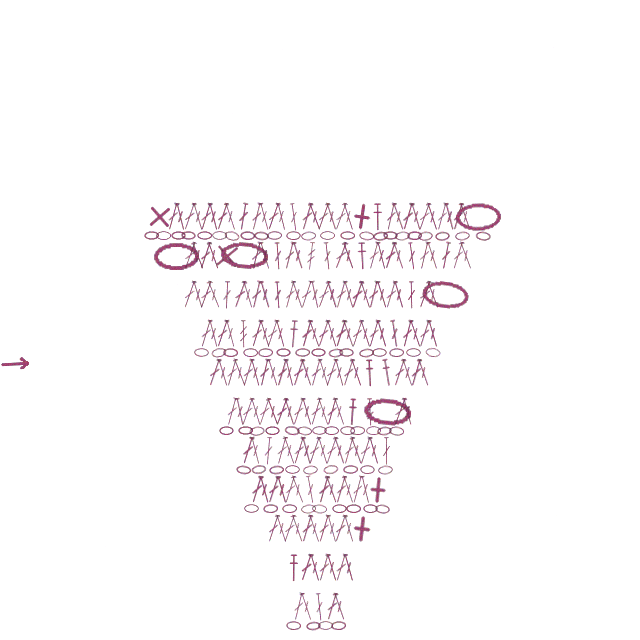chain: (420, 278, 471, 312), (362, 396, 412, 428), (219, 240, 269, 271), (455, 202, 502, 231), (153, 242, 200, 270), (224, 230, 240, 242), (251, 464, 267, 475), (323, 464, 339, 475), (284, 425, 300, 436), (211, 347, 227, 358), (425, 347, 441, 358), (249, 426, 265, 436), (328, 348, 344, 358), (475, 231, 491, 241), (306, 621, 321, 631), (301, 504, 316, 514), (312, 504, 327, 514), (375, 504, 390, 514), (236, 465, 251, 475), (269, 465, 284, 475), (303, 465, 318, 475), (378, 465, 393, 475), (297, 426, 312, 436), (377, 426, 392, 436), (389, 426, 404, 436), (359, 348, 374, 358), (254, 231, 269, 241), (301, 231, 316, 241), (359, 231, 374, 241), (373, 231, 388, 241), (395, 231, 410, 241), (418, 231, 433, 241), (435, 231, 450, 241), (455, 231, 470, 241), (286, 621, 301, 630), (318, 621, 333, 630), (331, 621, 346, 630), (244, 504, 259, 513), (263, 504, 278, 513), (282, 504, 297, 513), (332, 504, 347, 513), (346, 504, 361, 513), (363, 504, 378, 513), (285, 465, 300, 474), (343, 465, 358, 474), (360, 465, 375, 474), (219, 426, 234, 435), (238, 426, 253, 435), (265, 426, 280, 435), (312, 426, 327, 435), (324, 426, 339, 435), (340, 426, 355, 435), (350, 426, 365, 435), (366, 426, 381, 435), (194, 348, 209, 357), (223, 348, 238, 357), (243, 348, 258, 357), (258, 348, 273, 357), (276, 348, 291, 357), (295, 348, 310, 357), (311, 348, 326, 357), (339, 348, 354, 357), (372, 348, 387, 357), (389, 348, 404, 357), (406, 348, 421, 357), (144, 231, 159, 240), (156, 231, 171, 240), (171, 231, 186, 240), (181, 231, 196, 240), (197, 231, 212, 240), (212, 231, 227, 240), (240, 231, 255, 240), (267, 231, 282, 240), (286, 231, 301, 240), (320, 231, 335, 240), (340, 231, 355, 240), (383, 231, 398, 240), (407, 231, 422, 240)
double: (289, 475, 307, 504), (264, 397, 282, 426), (273, 397, 291, 426), (391, 397, 409, 426), (231, 358, 249, 387), (197, 280, 215, 309), (205, 280, 223, 309), (231, 280, 249, 309), (315, 280, 333, 309), (416, 280, 434, 309), (424, 280, 442, 309), (181, 241, 199, 270), (189, 241, 207, 270), (332, 241, 350, 270), (457, 241, 475, 270), (306, 202, 324, 231), (332, 202, 350, 231), (298, 592, 315, 621), (331, 592, 348, 621), (298, 553, 315, 582), (265, 514, 282, 543), (273, 514, 290, 543), (281, 514, 298, 543), (289, 514, 306, 543), (306, 514, 323, 543), (332, 514, 349, 543), (265, 475, 282, 504), (323, 475, 340, 504), (340, 475, 357, 504), (281, 436, 298, 465), (306, 436, 323, 465), (323, 436, 340, 465), (331, 436, 348, 465), (348, 436, 365, 465), (357, 436, 374, 465), (239, 397, 256, 426), (256, 397, 273, 426), (281, 397, 298, 426), (290, 397, 307, 426), (315, 397, 332, 426), (331, 397, 348, 426), (206, 358, 223, 387), (290, 358, 307, 387), (298, 358, 315, 387), (323, 358, 340, 387), (340, 358, 357, 387), (348, 358, 365, 387), (391, 358, 408, 387), (399, 358, 416, 387), (415, 358, 432, 387), (214, 319, 231, 348), (264, 319, 281, 348), (306, 319, 323, 348), (315, 319, 332, 348), (340, 319, 357, 348), (349, 319, 366, 348), (357, 319, 374, 348), (407, 319, 424, 348), (416, 319, 433, 348), (181, 280, 198, 309), (289, 280, 306, 309), (298, 280, 315, 309), (349, 280, 366, 309), (357, 280, 374, 309), (197, 241, 214, 270), (205, 241, 222, 270), (340, 241, 357, 270), (382, 241, 399, 270), (390, 241, 407, 270), (424, 241, 441, 270), (181, 202, 198, 231), (214, 202, 231, 231), (222, 202, 239, 231), (265, 202, 282, 231), (315, 202, 332, 231), (323, 202, 340, 231), (340, 202, 357, 231), (390, 202, 407, 231), (416, 202, 433, 231), (424, 202, 441, 231), (457, 202, 474, 231), (324, 592, 340, 621), (307, 553, 323, 582), (316, 553, 332, 582), (324, 553, 340, 582), (333, 553, 349, 582), (341, 553, 357, 582), (299, 514, 315, 543), (316, 514, 332, 543), (324, 514, 340, 543), (341, 514, 357, 543), (249, 475, 265, 504), (274, 475, 290, 504), (282, 475, 298, 504), (316, 475, 332, 504), (333, 475, 349, 504), (240, 436, 256, 465), (274, 436, 290, 465), (291, 436, 307, 465), (315, 436, 331, 465), (341, 436, 357, 465), (366, 436, 382, 465), (224, 397, 240, 426), (248, 397, 264, 426), (299, 397, 315, 426), (308, 397, 324, 426), (324, 397, 340, 426), (215, 358, 231, 387), (224, 358, 240, 387), (240, 358, 256, 387), (265, 358, 281, 387), (274, 358, 290, 387), (308, 358, 324, 387), (316, 358, 332, 387), (408, 358, 424, 387), (198, 319, 214, 348), (249, 319, 265, 348), (257, 319, 273, 348), (299, 319, 315, 348), (324, 319, 340, 348), (333, 319, 349, 348), (366, 319, 382, 348), (374, 319, 390, 348), (425, 319, 441, 348), (190, 280, 206, 309), (240, 280, 256, 309), (257, 280, 273, 309), (282, 280, 298, 309), (324, 280, 340, 309), (333, 280, 349, 309), (341, 280, 357, 309), (374, 280, 390, 309), (383, 280, 399, 309), (391, 280, 407, 309), (257, 241, 273, 270), (290, 241, 306, 270), (366, 241, 382, 270), (450, 241, 466, 270), (165, 202, 181, 231), (190, 202, 206, 231), (198, 202, 214, 231), (299, 202, 315, 231), (400, 202, 416, 231), (408, 202, 424, 231), (434, 202, 450, 231), (450, 202, 466, 231), (291, 592, 306, 621), (257, 475, 272, 504), (350, 475, 365, 504), (358, 475, 373, 504), (248, 436, 263, 465), (299, 436, 314, 465), (400, 397, 415, 426), (248, 358, 263, 387), (257, 358, 272, 387), (282, 358, 297, 387), (332, 358, 347, 387), (206, 319, 221, 348), (223, 319, 238, 348), (273, 319, 288, 348), (400, 319, 415, 348), (249, 280, 264, 309), (366, 280, 381, 309), (249, 241, 264, 270), (282, 241, 297, 270), (374, 241, 389, 270), (417, 241, 432, 270), (173, 202, 188, 231), (206, 202, 221, 231), (249, 202, 264, 231), (257, 202, 272, 231), (274, 202, 289, 231), (442, 202, 457, 231), (233, 397, 247, 426), (308, 280, 322, 309), (439, 241, 453, 270), (384, 202, 398, 231), (304, 475, 317, 504), (388, 319, 401, 348), (237, 202, 250, 231), (406, 242, 418, 270), (288, 203, 300, 231), (314, 593, 325, 621), (263, 437, 274, 465), (322, 242, 333, 270), (222, 281, 232, 309), (273, 281, 283, 309), (273, 242, 283, 270), (382, 437, 391, 465), (407, 281, 416, 309)
half_double: (380, 358, 394, 387), (287, 320, 300, 348), (356, 242, 368, 270), (288, 554, 299, 582), (347, 398, 358, 426), (364, 359, 375, 387), (372, 203, 383, 231)
noise: (0, 357, 31, 370)
single: (346, 201, 377, 232), (347, 514, 377, 544), (363, 475, 393, 505), (212, 241, 242, 271), (145, 202, 174, 231)
treble: (305, 242, 317, 270), (365, 398, 375, 426), (239, 320, 248, 348)
